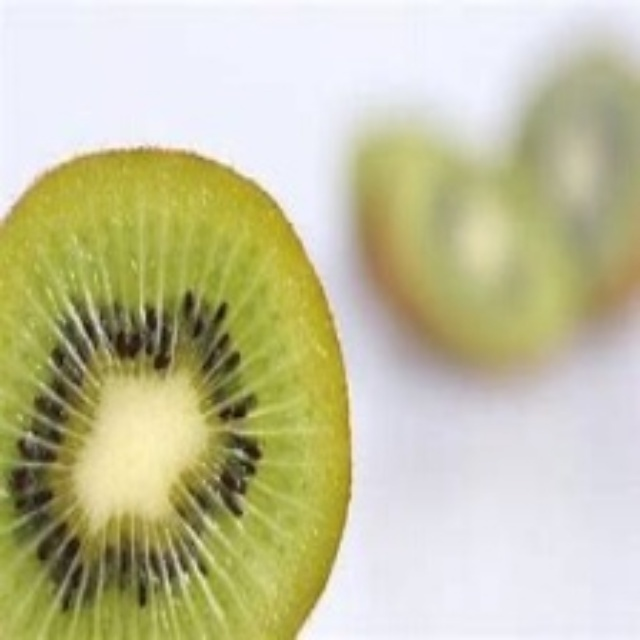kiwi: (1, 144, 352, 638)
